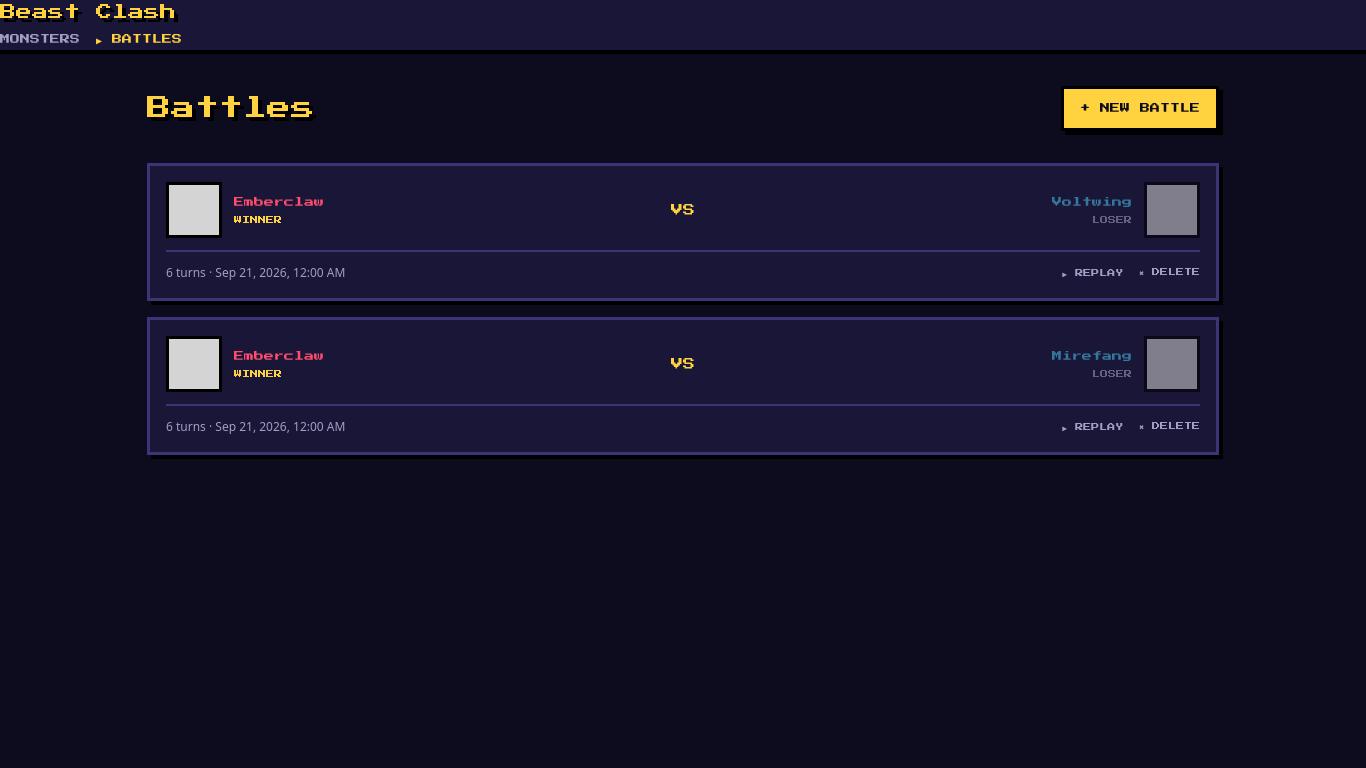
Test case: BattleList: delete › asks for confirmation naming the matchup
The width and height of the screenshot is (1366, 768).
Click the button "✖ Delete" below "Mirefang" at (1170, 427), box left=1139, top=421, right=1200, bottom=433
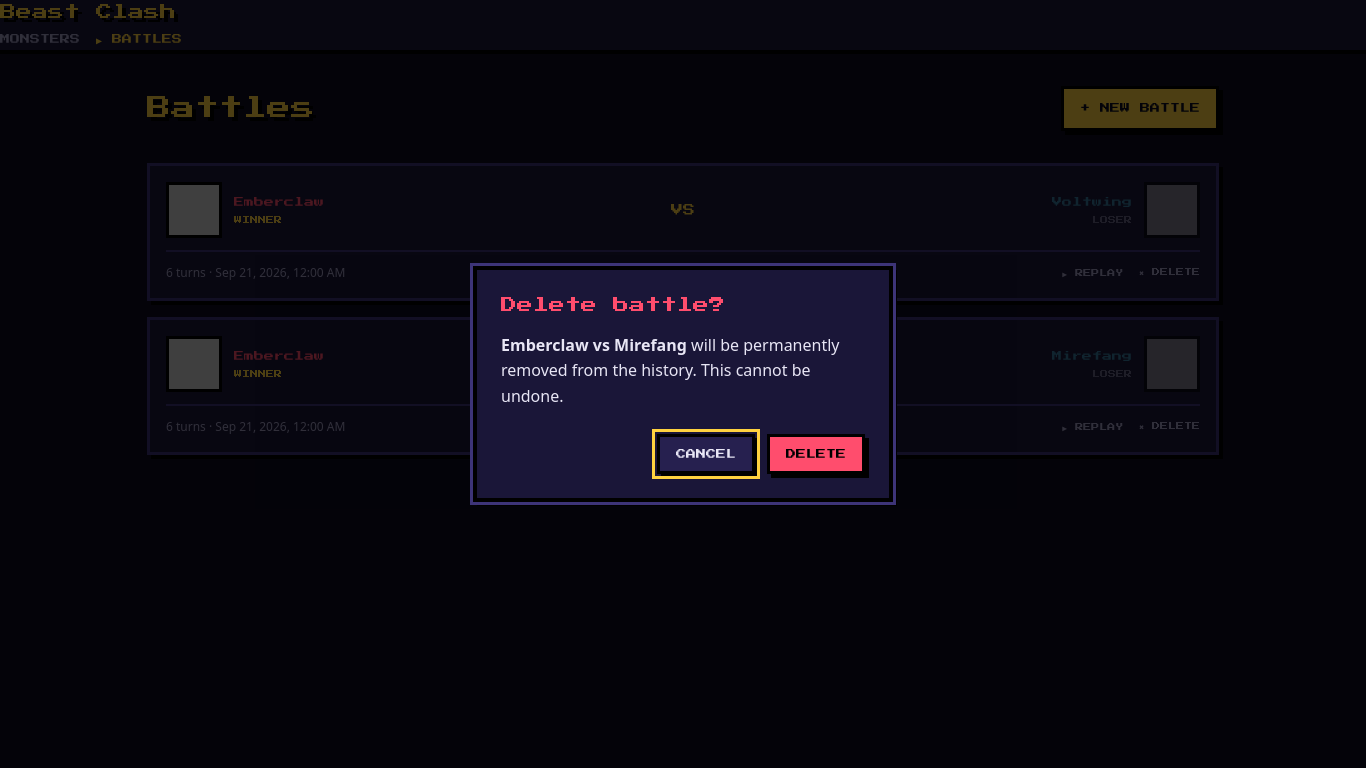
Expected: the dialog "Delete battle?" shows "Emberclaw vs Mirefang will be permanently removed from the history", left=473, top=266, right=893, bottom=502
